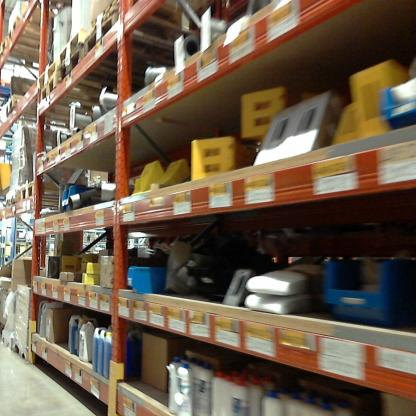pallet: (83, 13, 241, 75), (88, 1, 271, 51), (0, 39, 95, 127), (37, 65, 160, 114), (61, 43, 168, 97), (55, 24, 122, 71), (19, 176, 78, 208), (36, 62, 96, 93), (12, 340, 40, 364), (4, 189, 21, 209)
